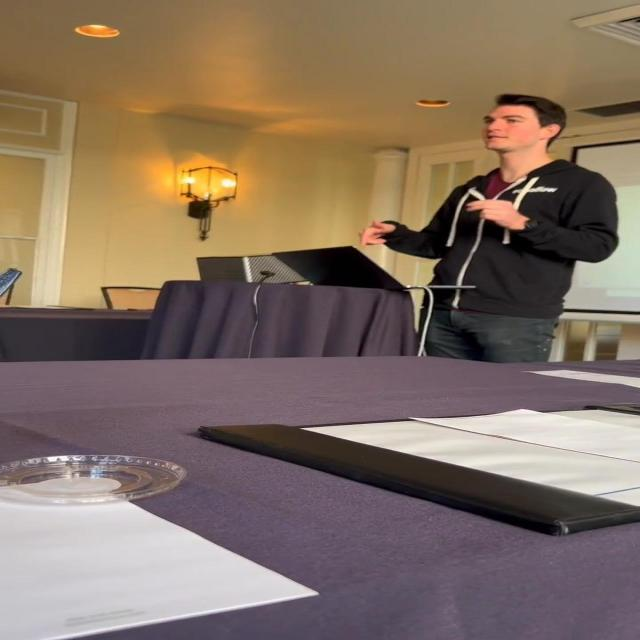NO-Mask: (481, 98, 568, 153)
